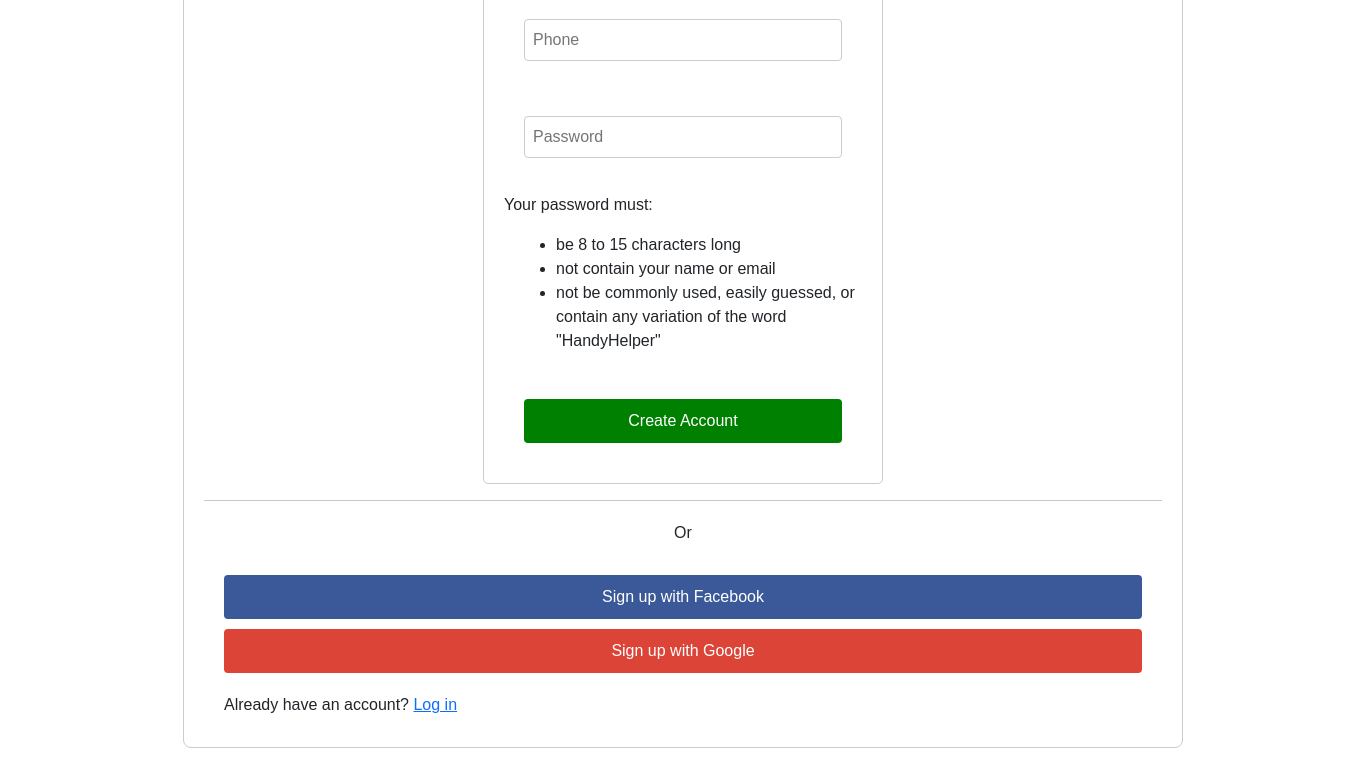
it: Register Component › Should display validation errors when fields are empty
(page scrolled)
Click the button "Create Account".
click(683, 421)  # box 524,399 -> 842,443
(page scrolled)
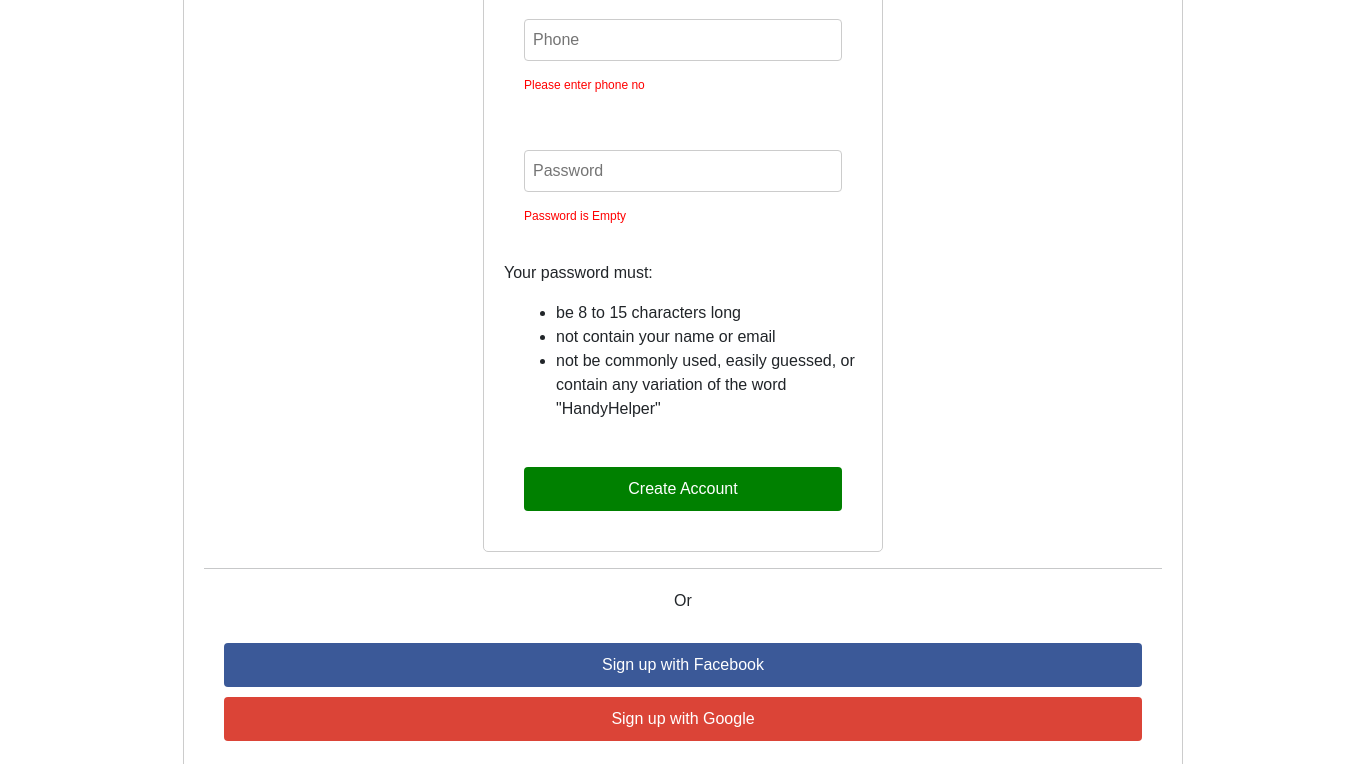
Expected: the text "Please enter phone no" is shown, 524,78 -> 645,92
Expected: the text "Password is Empty" is shown, 524,209 -> 626,223
